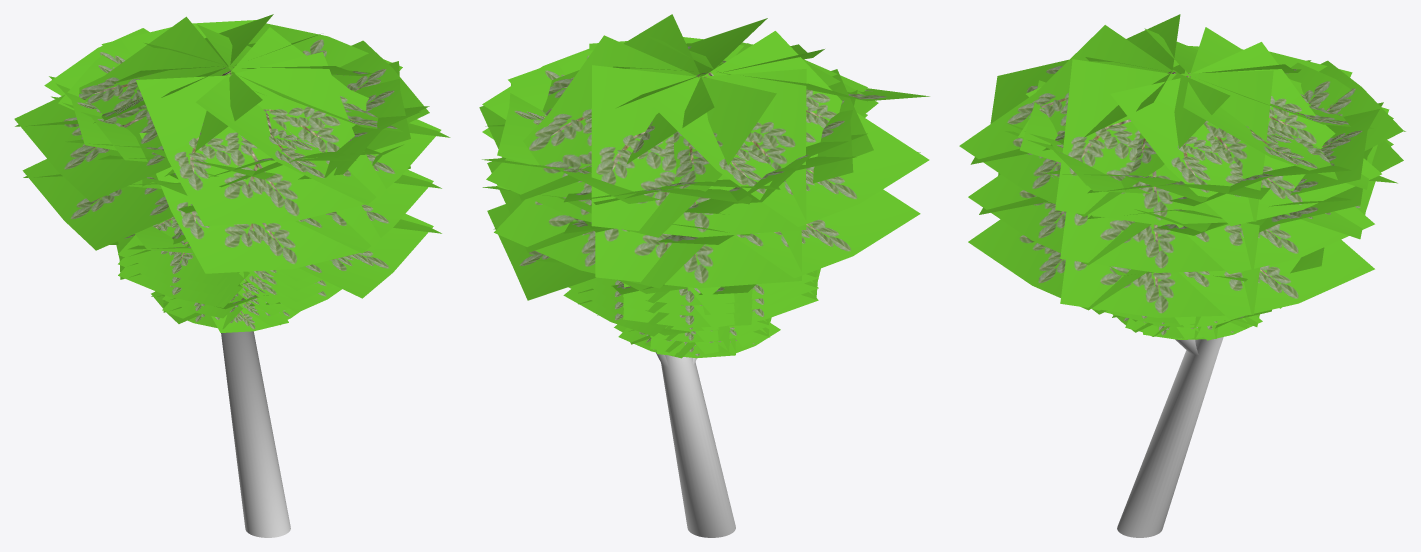
Rendered from puu1.fbx.
The picture shows the model from 3 angles, left to right: view 1: azimuth 30°, elevation 25°; view 2: azimuth 150°, elevation 25°; view 3: azimuth 270°, elevation 25°; orthographic projection. The views are drawn at different scales.
Visible parts, largest first — view 1: Untitled, Plane; view 2: Untitled, Plane; view 3: Untitled, Plane.
Boxes of the visible parts, bbox=[...] form: Untitled: bbox=[14, 14, 450, 332]; Plane: bbox=[221, 289, 290, 537]; Untitled: bbox=[479, 14, 929, 358]; Plane: bbox=[656, 352, 735, 537]; Untitled: bbox=[959, 14, 1405, 340]; Plane: bbox=[1117, 337, 1223, 537].
Size of the model in its own units: 1843 by 2222 by 1962.
